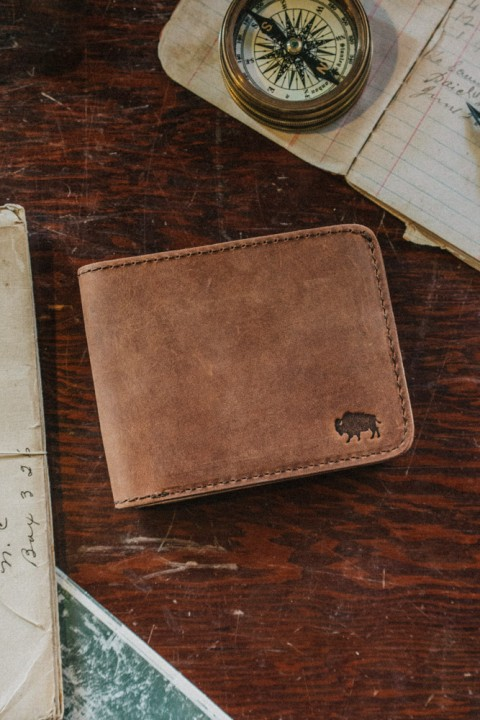monedero: (74, 219, 420, 516)
